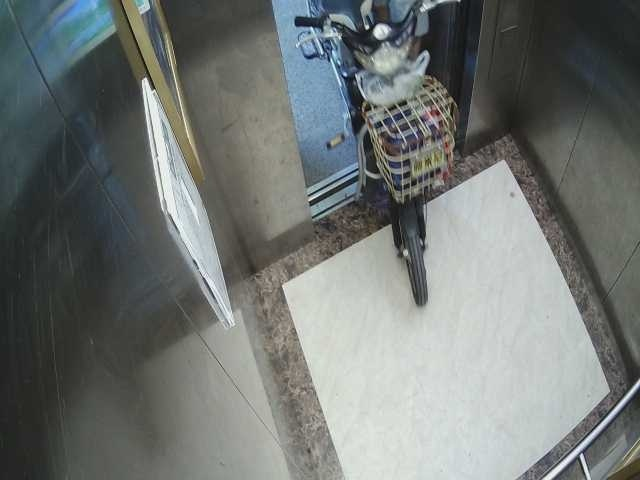emotor: (287, 1, 462, 311)
